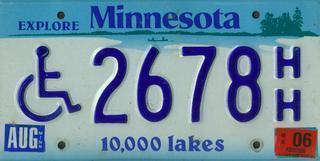placa de veiculo: (3, 2, 310, 160)
